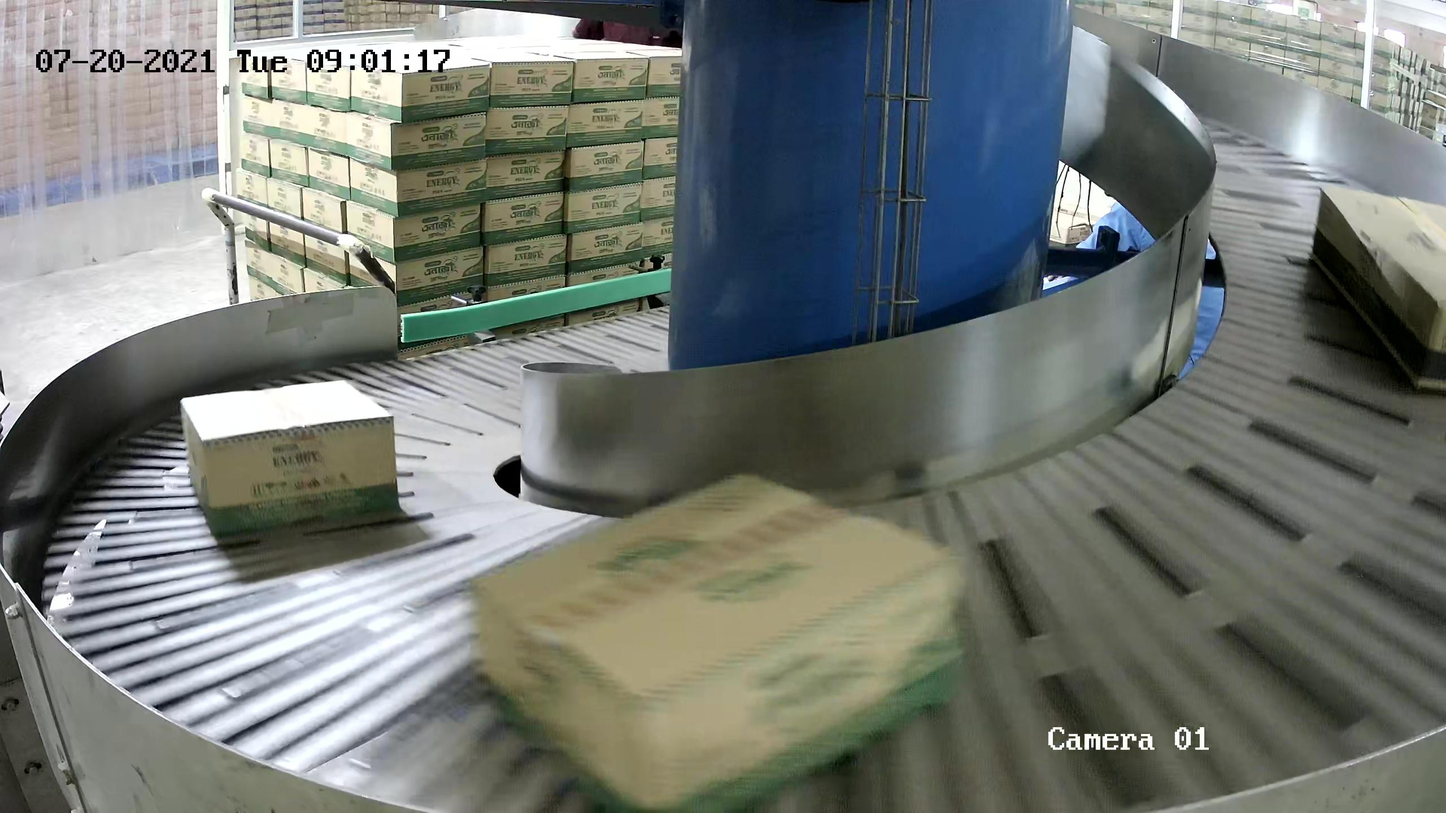Box: (468, 468, 966, 813), (179, 378, 402, 537), (1308, 182, 1446, 391)
